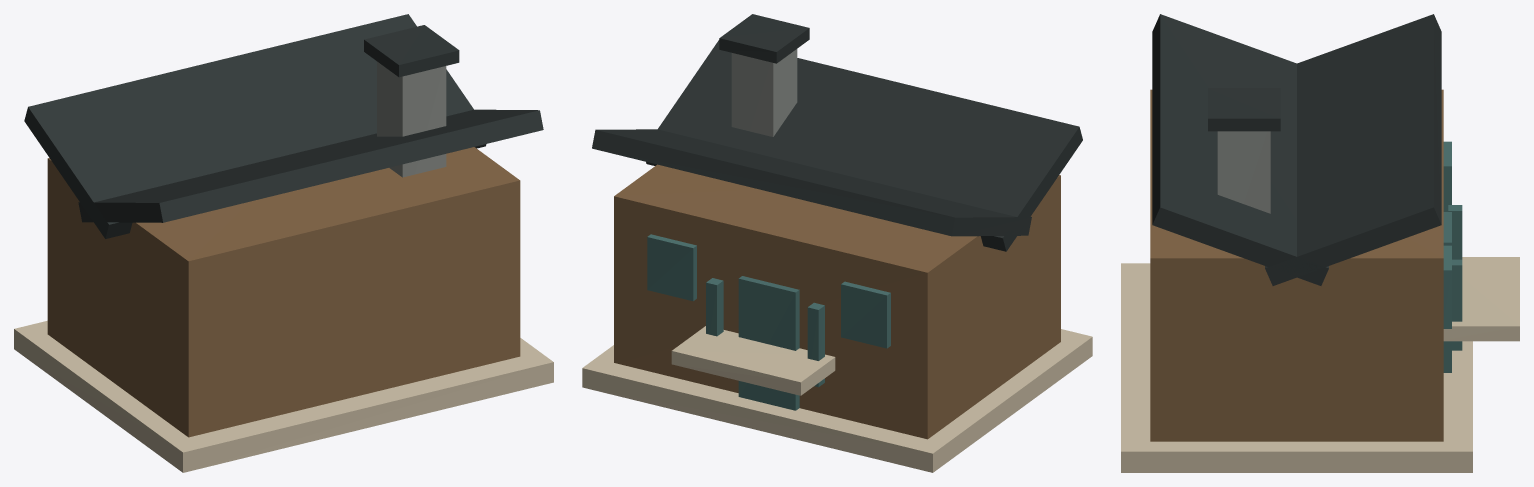
File: Cottage.glb
The picture shows the model from 3 angles, left to right: view 1: azimuth 30°, elevation 25°; view 2: azimuth 150°, elevation 25°; view 3: azimuth 270°, elevation 25°; orthographic projection. The views are drawn at different scales.
Parts seen in each view (by area): view 1: cottage-static-cottage-timber, cottage-static-cottage-iron, cottage-static-cottage-cream, cottage-static-cottage-stone; view 2: cottage-static-cottage-timber, cottage-static-cottage-iron, cottage-static-cottage-cream, cottage-static-cottage-teal, cottage-static-cottage-stone; view 3: cottage-static-cottage-iron, cottage-static-cottage-timber, cottage-static-cottage-cream, cottage-static-cottage-stone, cottage-static-cottage-teal.
Part boxes in pixels (x1,y1,x2,y2): cottage-static-cottage-timber: [47, 147, 520, 437]; cottage-static-cottage-iron: [24, 14, 543, 238]; cottage-static-cottage-cream: [14, 320, 553, 472]; cottage-static-cottage-stone: [377, 61, 446, 177]; cottage-static-cottage-timber: [614, 164, 1060, 439]; cottage-static-cottage-iron: [592, 14, 1082, 251]; cottage-static-cottage-cream: [582, 326, 1092, 472]; cottage-static-cottage-teal: [647, 234, 890, 410]; cottage-static-cottage-stone: [731, 49, 797, 136]; cottage-static-cottage-iron: [1152, 14, 1441, 285]; cottage-static-cottage-timber: [1150, 89, 1443, 441]; cottage-static-cottage-cream: [1121, 257, 1519, 472]; cottage-static-cottage-stone: [1217, 131, 1270, 213]; cottage-static-cottage-teal: [1443, 141, 1462, 372].
Size of the model in its own units: 3.9 by 3.08 by 3.4.
